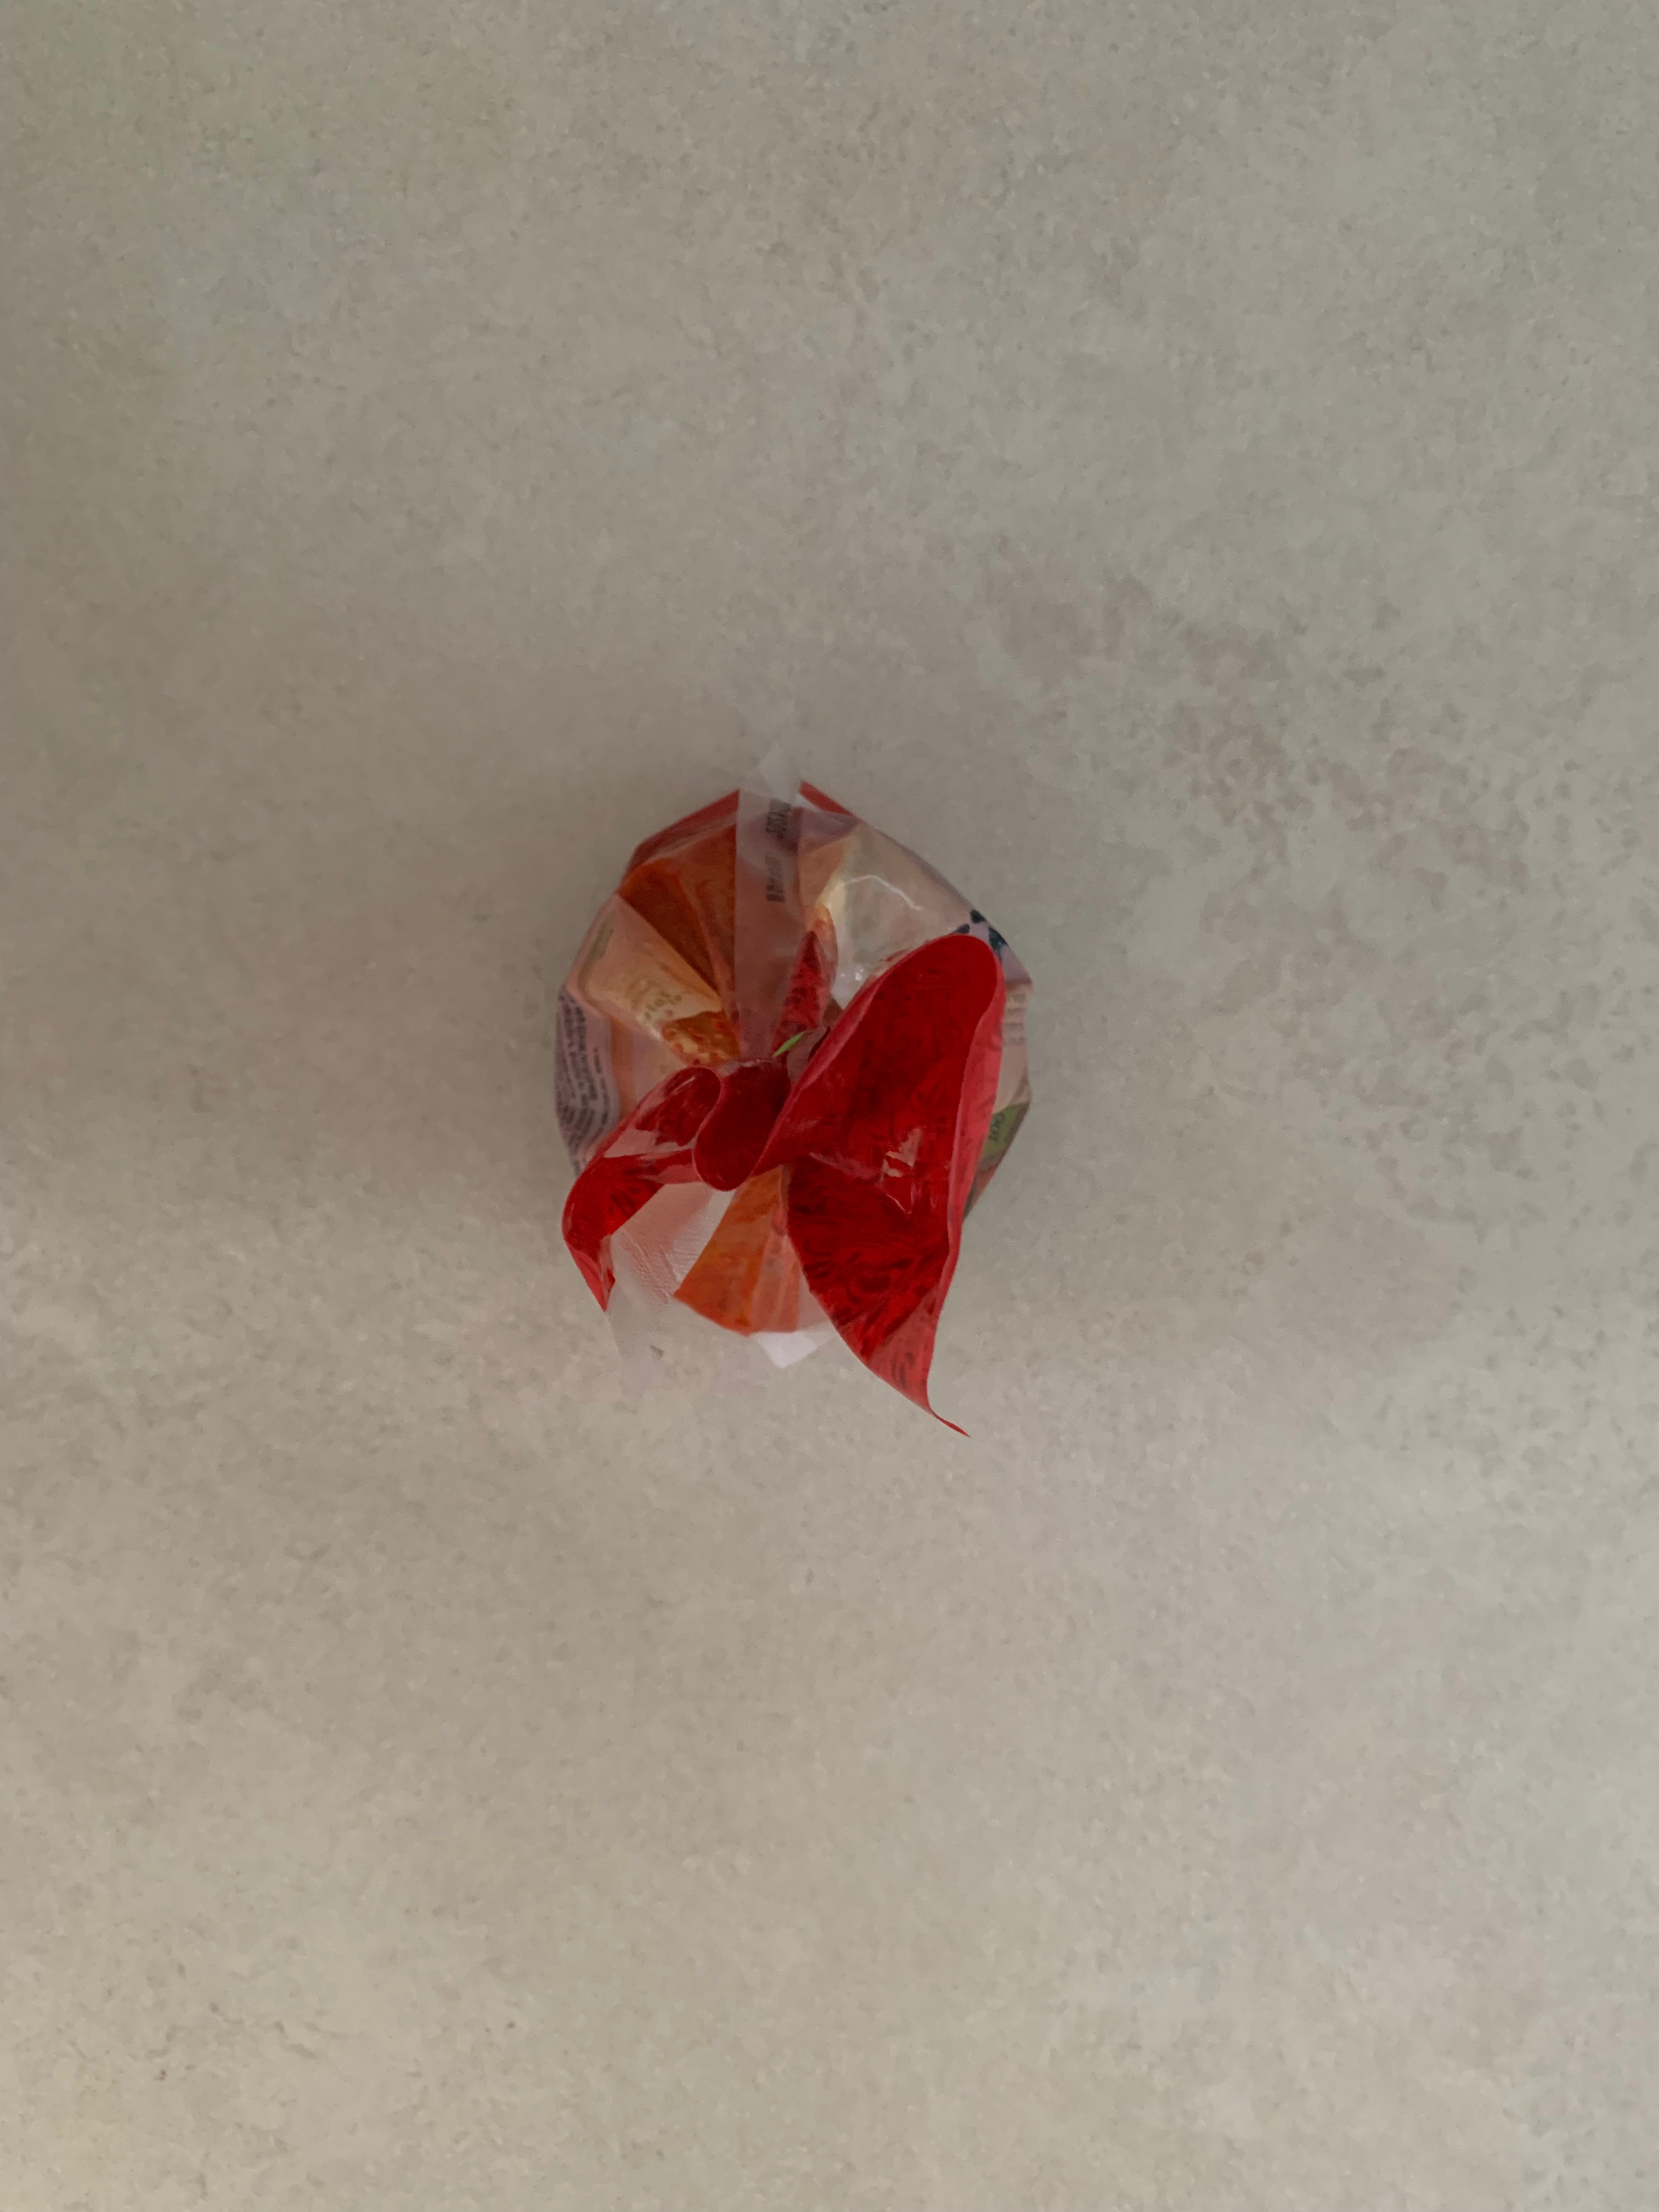kimchi: (556, 792, 1040, 1369)
